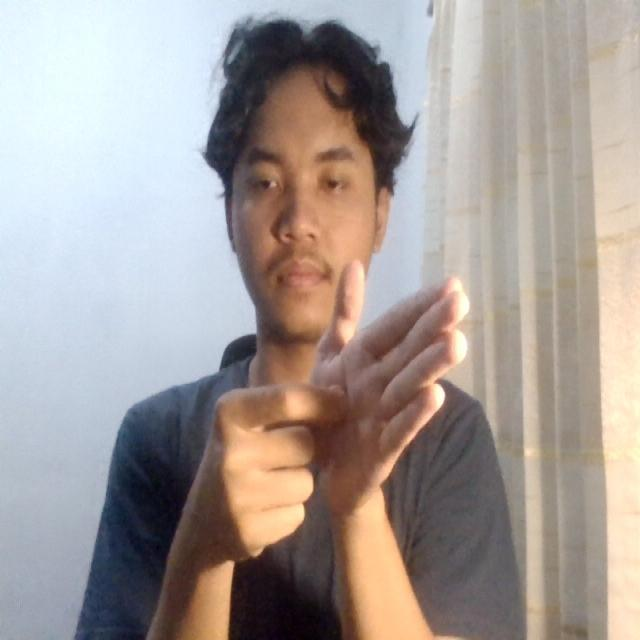L: (190, 245, 476, 566)
